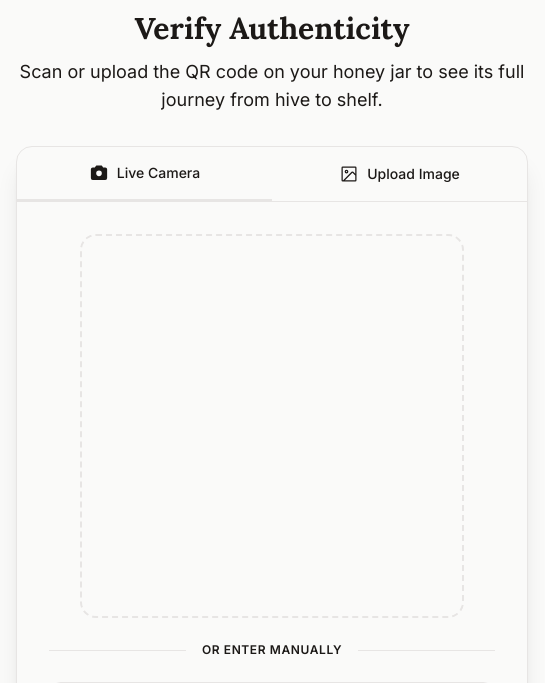
it: VerifyEntryPage › switches between camera and upload views
Note: Initially camera should be active (we can test active state by looking for specific text or just clicking)
Step 1. Click the button "Upload Image" → (400, 174), box x1=272 y1=147 x2=527 y2=201
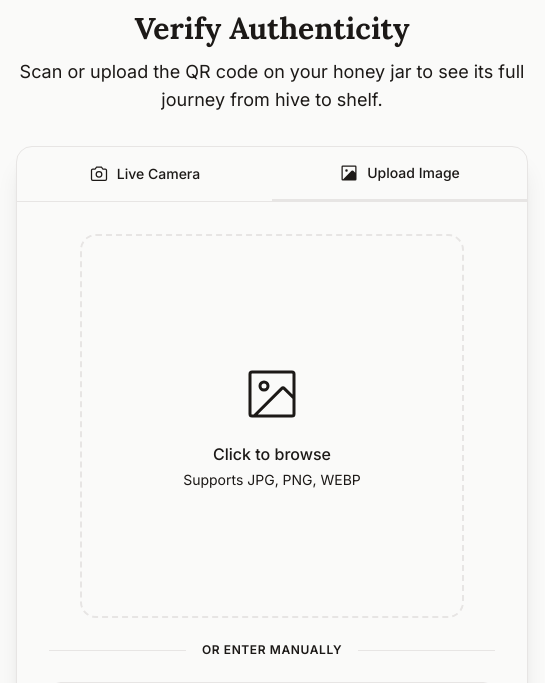
Check: the text "Click to browse" is shown, box x1=213 y1=442 x2=331 y2=466
Check: the text "Supports JPG, PNG, WEBP" is shown, box x1=183 y1=470 x2=361 y2=490
